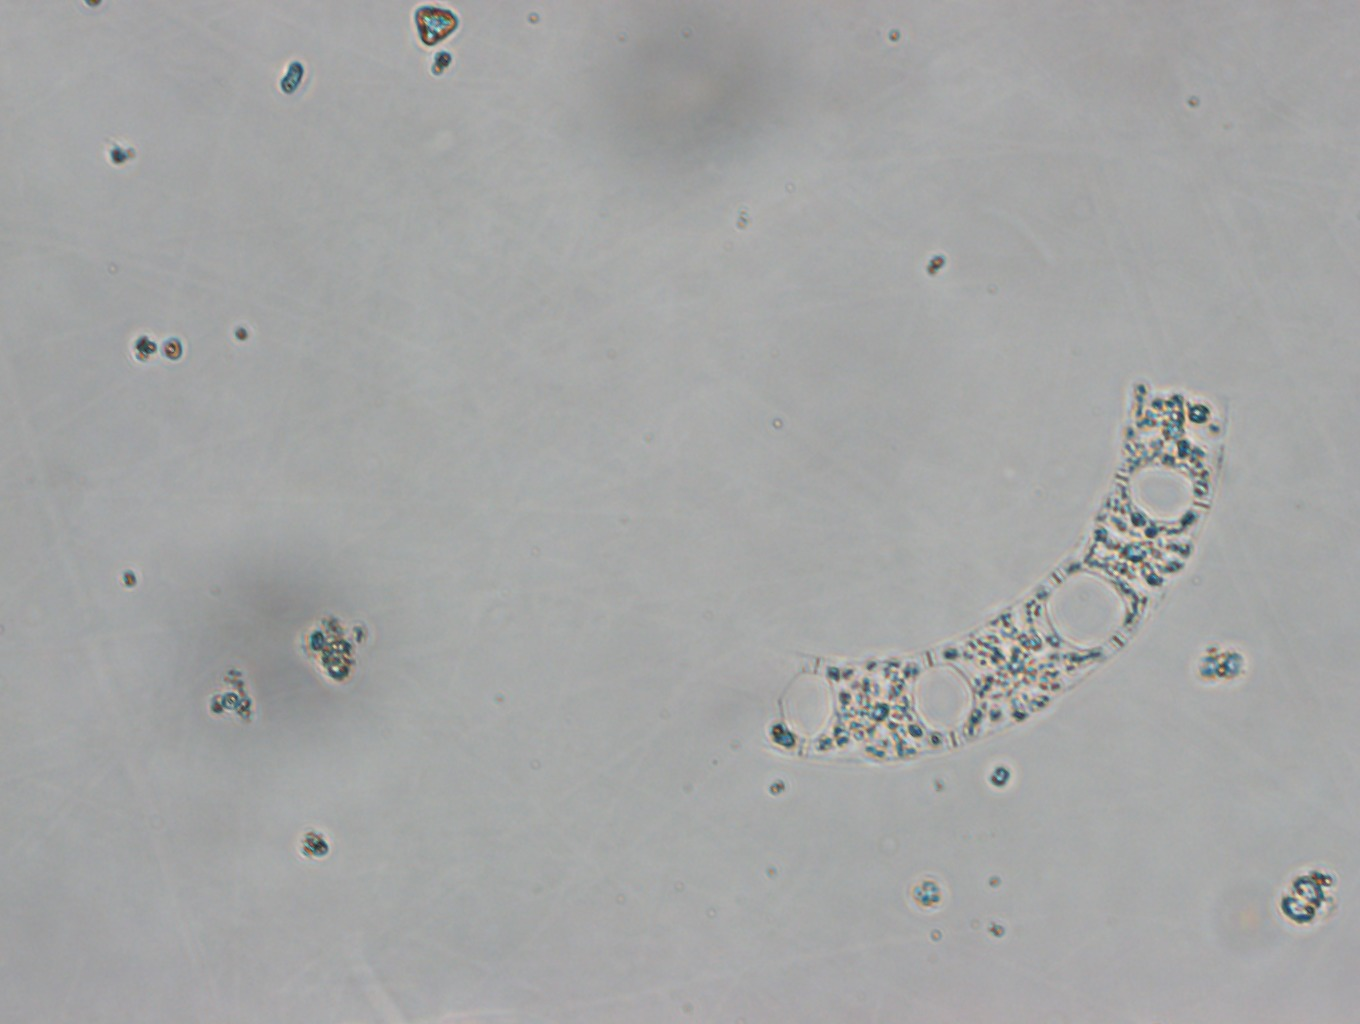eucampia: (767, 383, 1226, 760)
